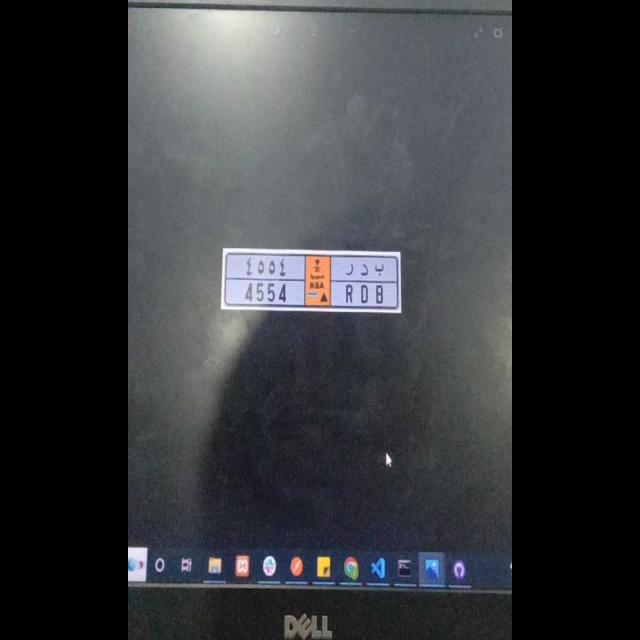license_plate: (221, 280, 400, 310)
